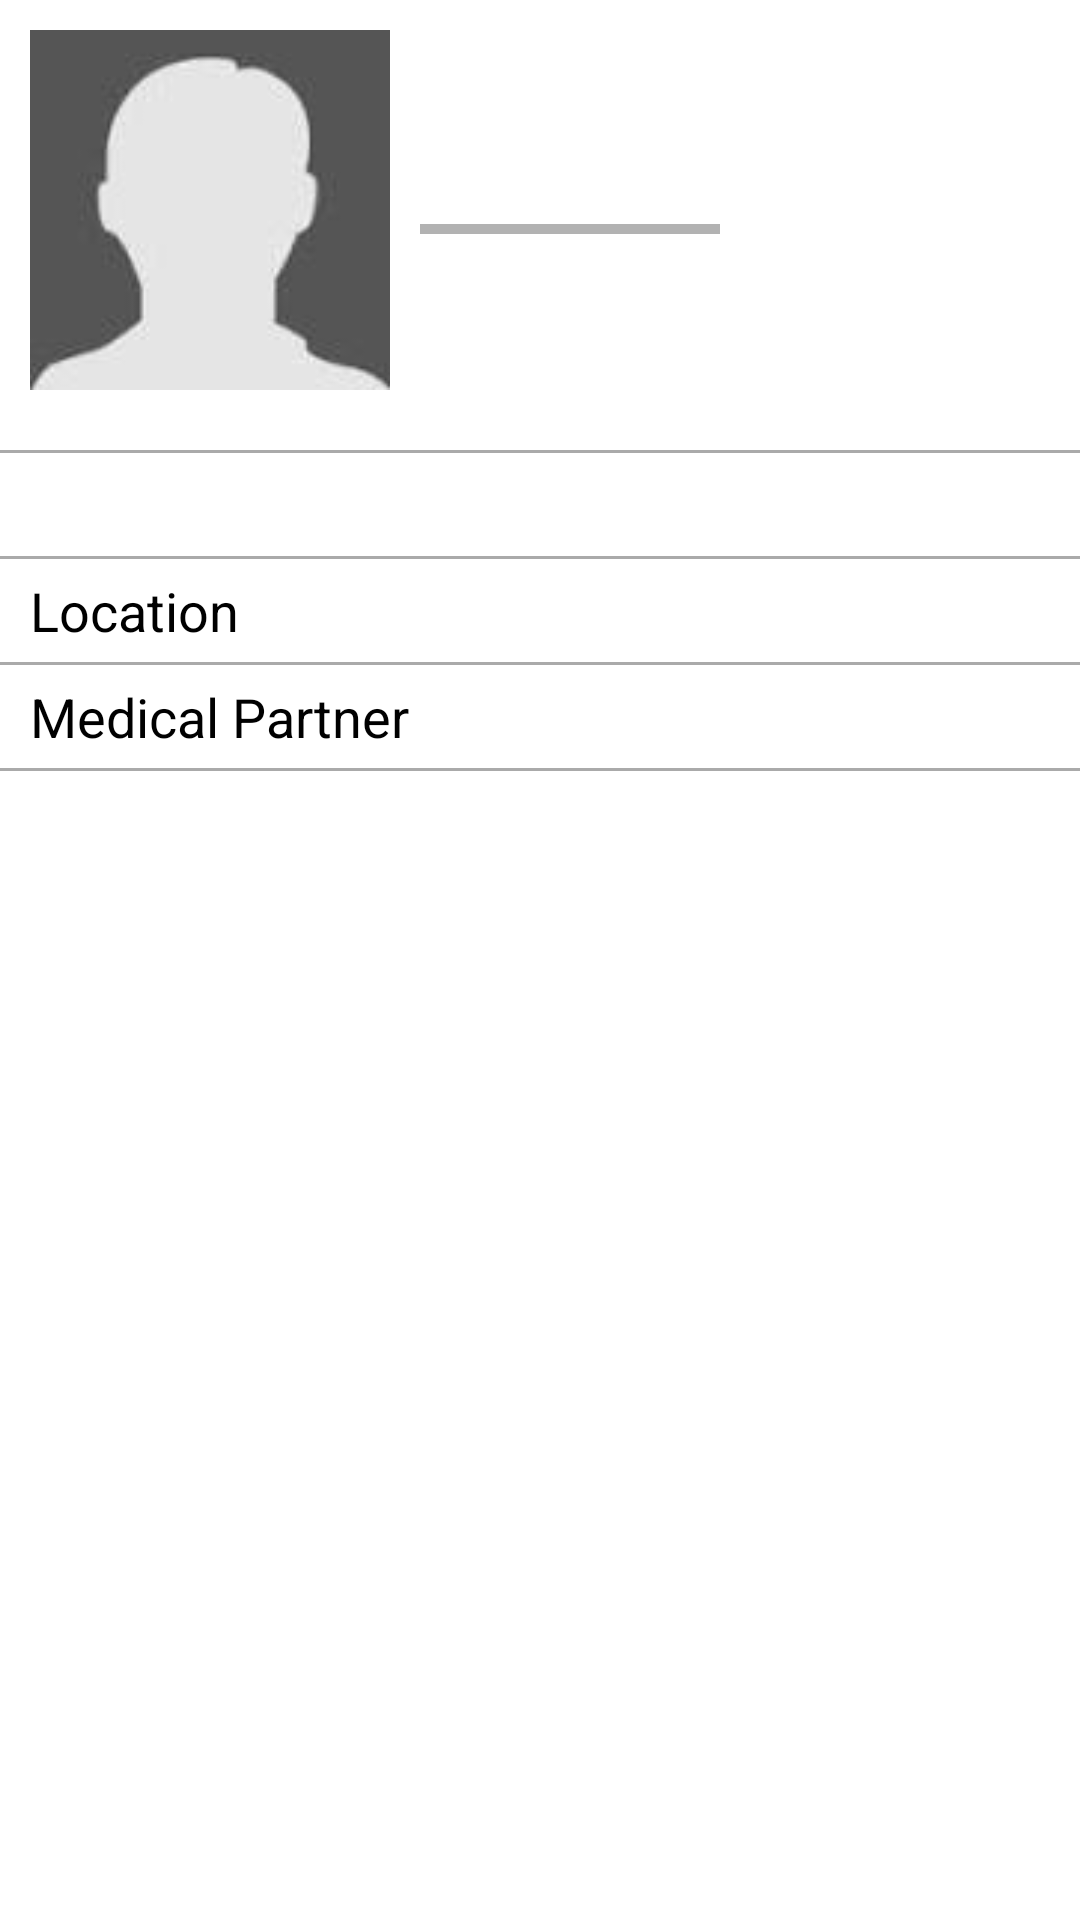

Icon bounding boxes for this 1080*1920 phone screenshot, format rect(x1, y1, x2, y2):
profile: rect(30, 30, 390, 390)
